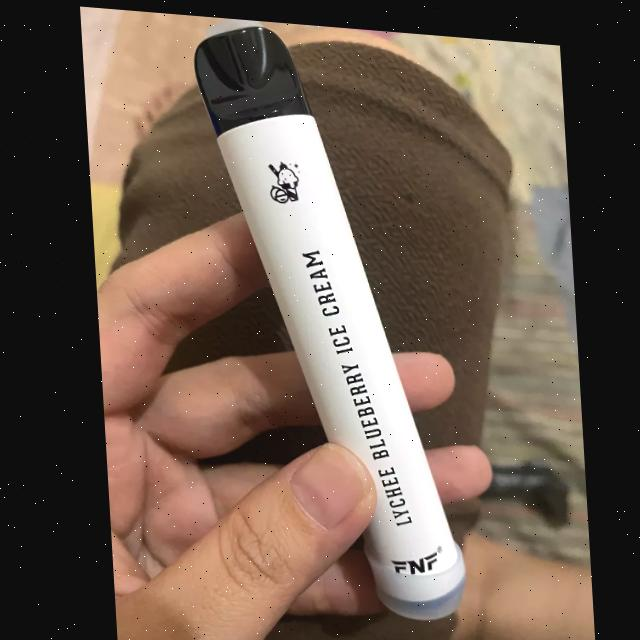vape: (189, 20, 461, 622)
